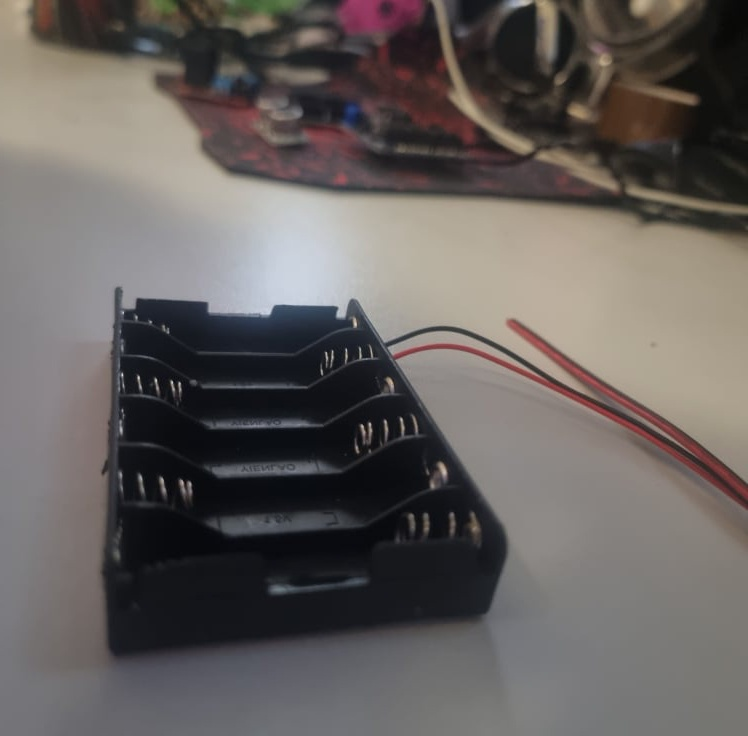BATTERY BOX: (104, 289, 508, 657)
